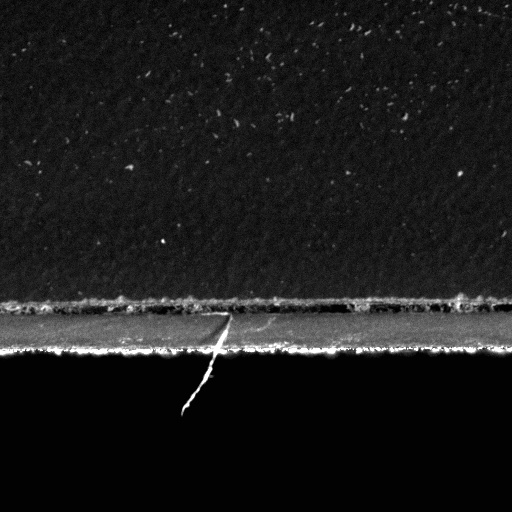jiaofeng: (58, 298, 511, 317)
